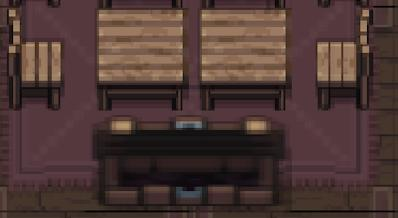Hide: (82, 109, 295, 218)
Obstacle: (193, 7, 299, 108), (90, 7, 195, 108), (0, 0, 74, 113), (308, 4, 381, 113)
